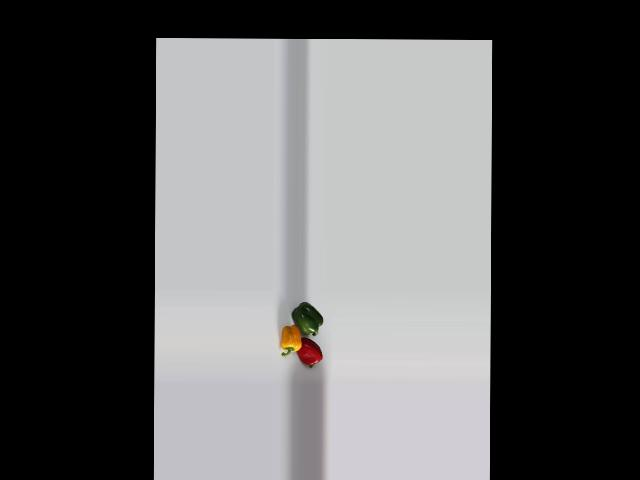bell_pepper: (278, 324, 306, 356)
